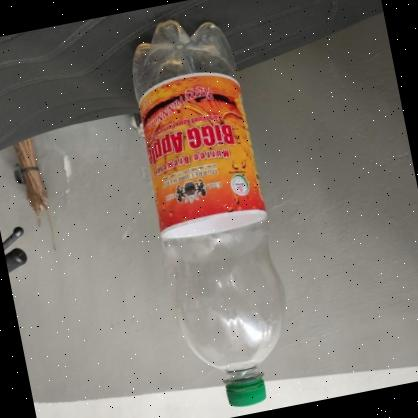bottle: (116, 12, 305, 416)
cap: (220, 368, 269, 410)
label: (128, 64, 272, 236)
